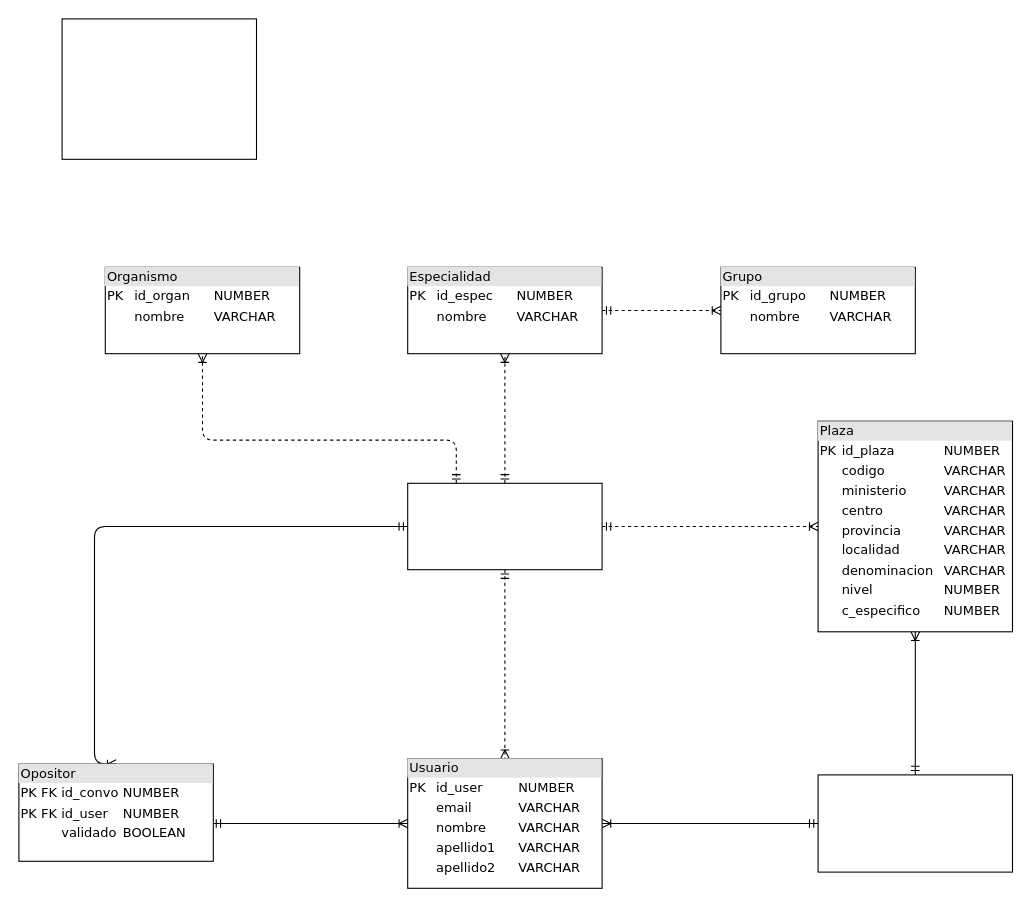
Some shapes in this 1031 by 907 pixel diagram are drawn without their labels. The centre of each missing label's shape, as x and y in pixels:
"Convocatoria PK id_grupo NUMBER nombre VARCHAR" goes at pixel 504 526.
"Eleccion PK FK id_plaza NUMBER PK FK id_user NUMBER orden NUMBER" goes at pixel 915 823.
"Tablename PK uniqueId FK1 foreignKey fieldname fieldname fieldname fieldname" goes at pixel 158 88.
